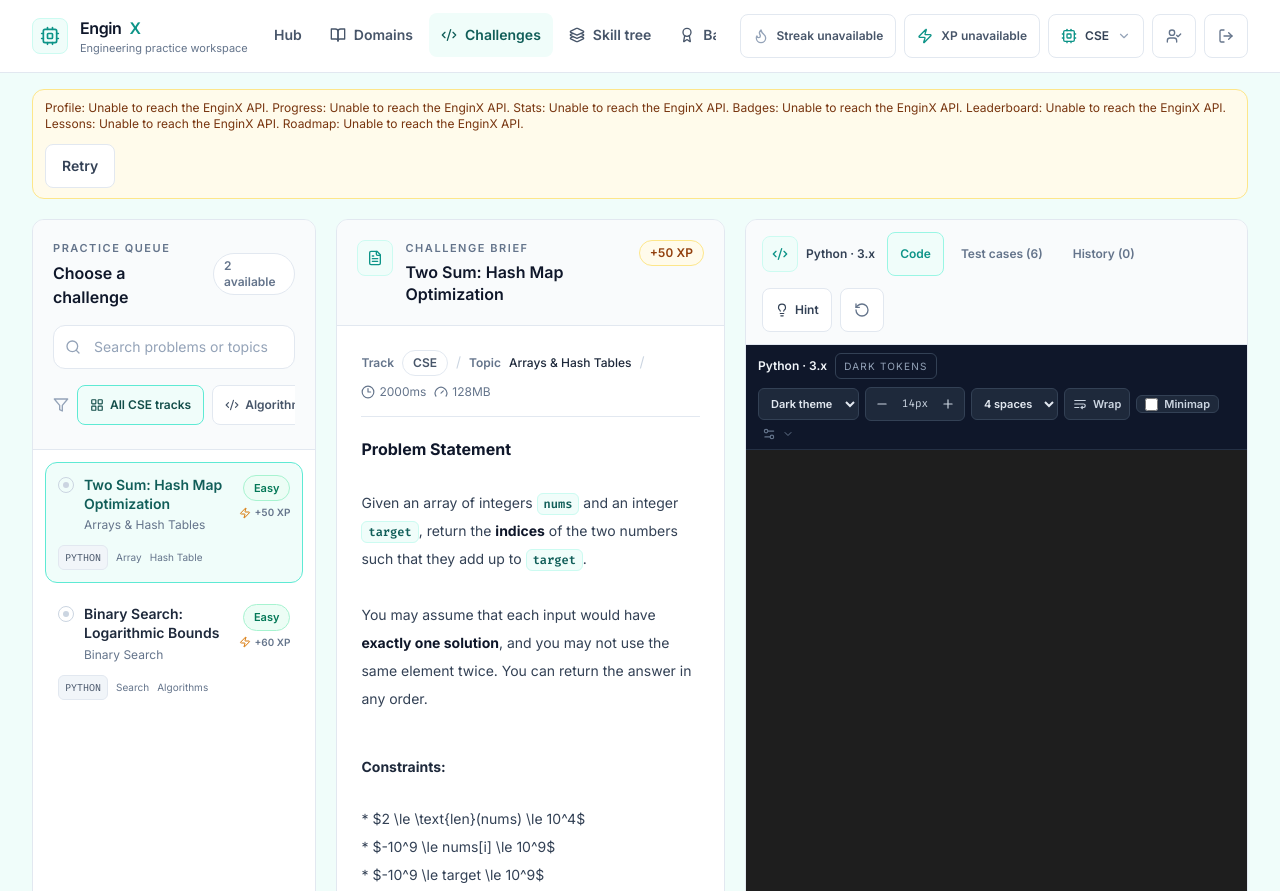
EnginX light UI › strictly isolates challenges and domain filters by selected engineering branch
This screenshot has width=1280, height=891.
Expected: the button "All CSE tracks" is shown, left=77, top=384, right=204, bottom=424
Expected: the button "Two Sum: Hash Map Optimization" is shown, left=45, top=462, right=304, bottom=583
// Switch to ECE branch:
Click the button with aria-label "current branch:" at (1096, 36), box left=1048, top=14, right=1144, bottom=58
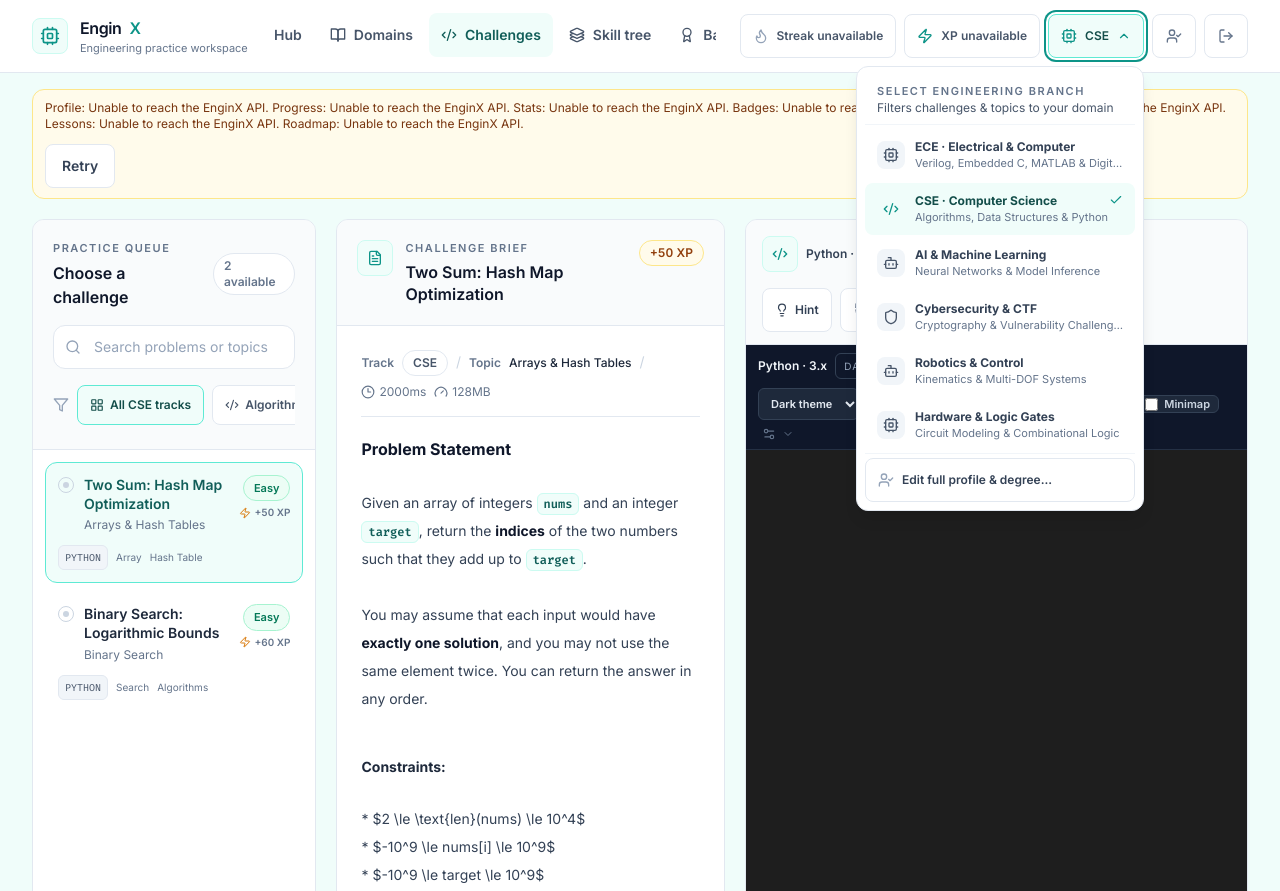
Click the option "ECE · Electrical & Computer" at (1000, 155), box left=865, top=128, right=1135, bottom=181
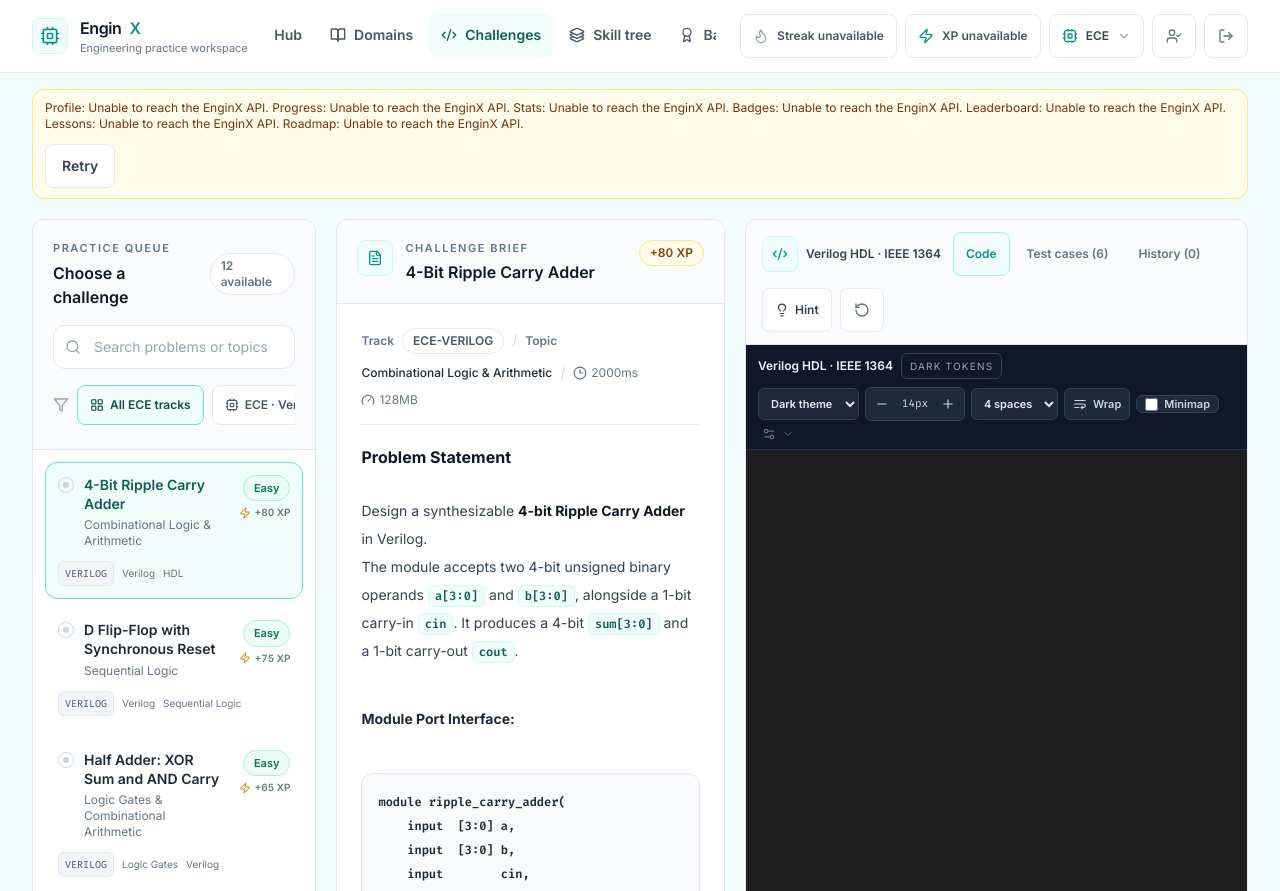
Now the button "All ECE tracks" is shown, box left=77, top=384, right=204, bottom=424
Now the button "ECE · Verilog" is shown, box left=212, top=384, right=296, bottom=424
Now the button "4-Bit Ripple Carry Adder" is shown, box left=45, top=462, right=304, bottom=599
